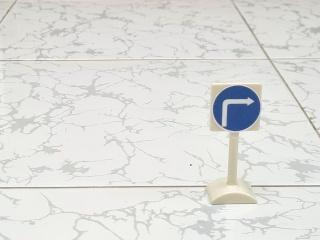right: (198, 80, 266, 136)
